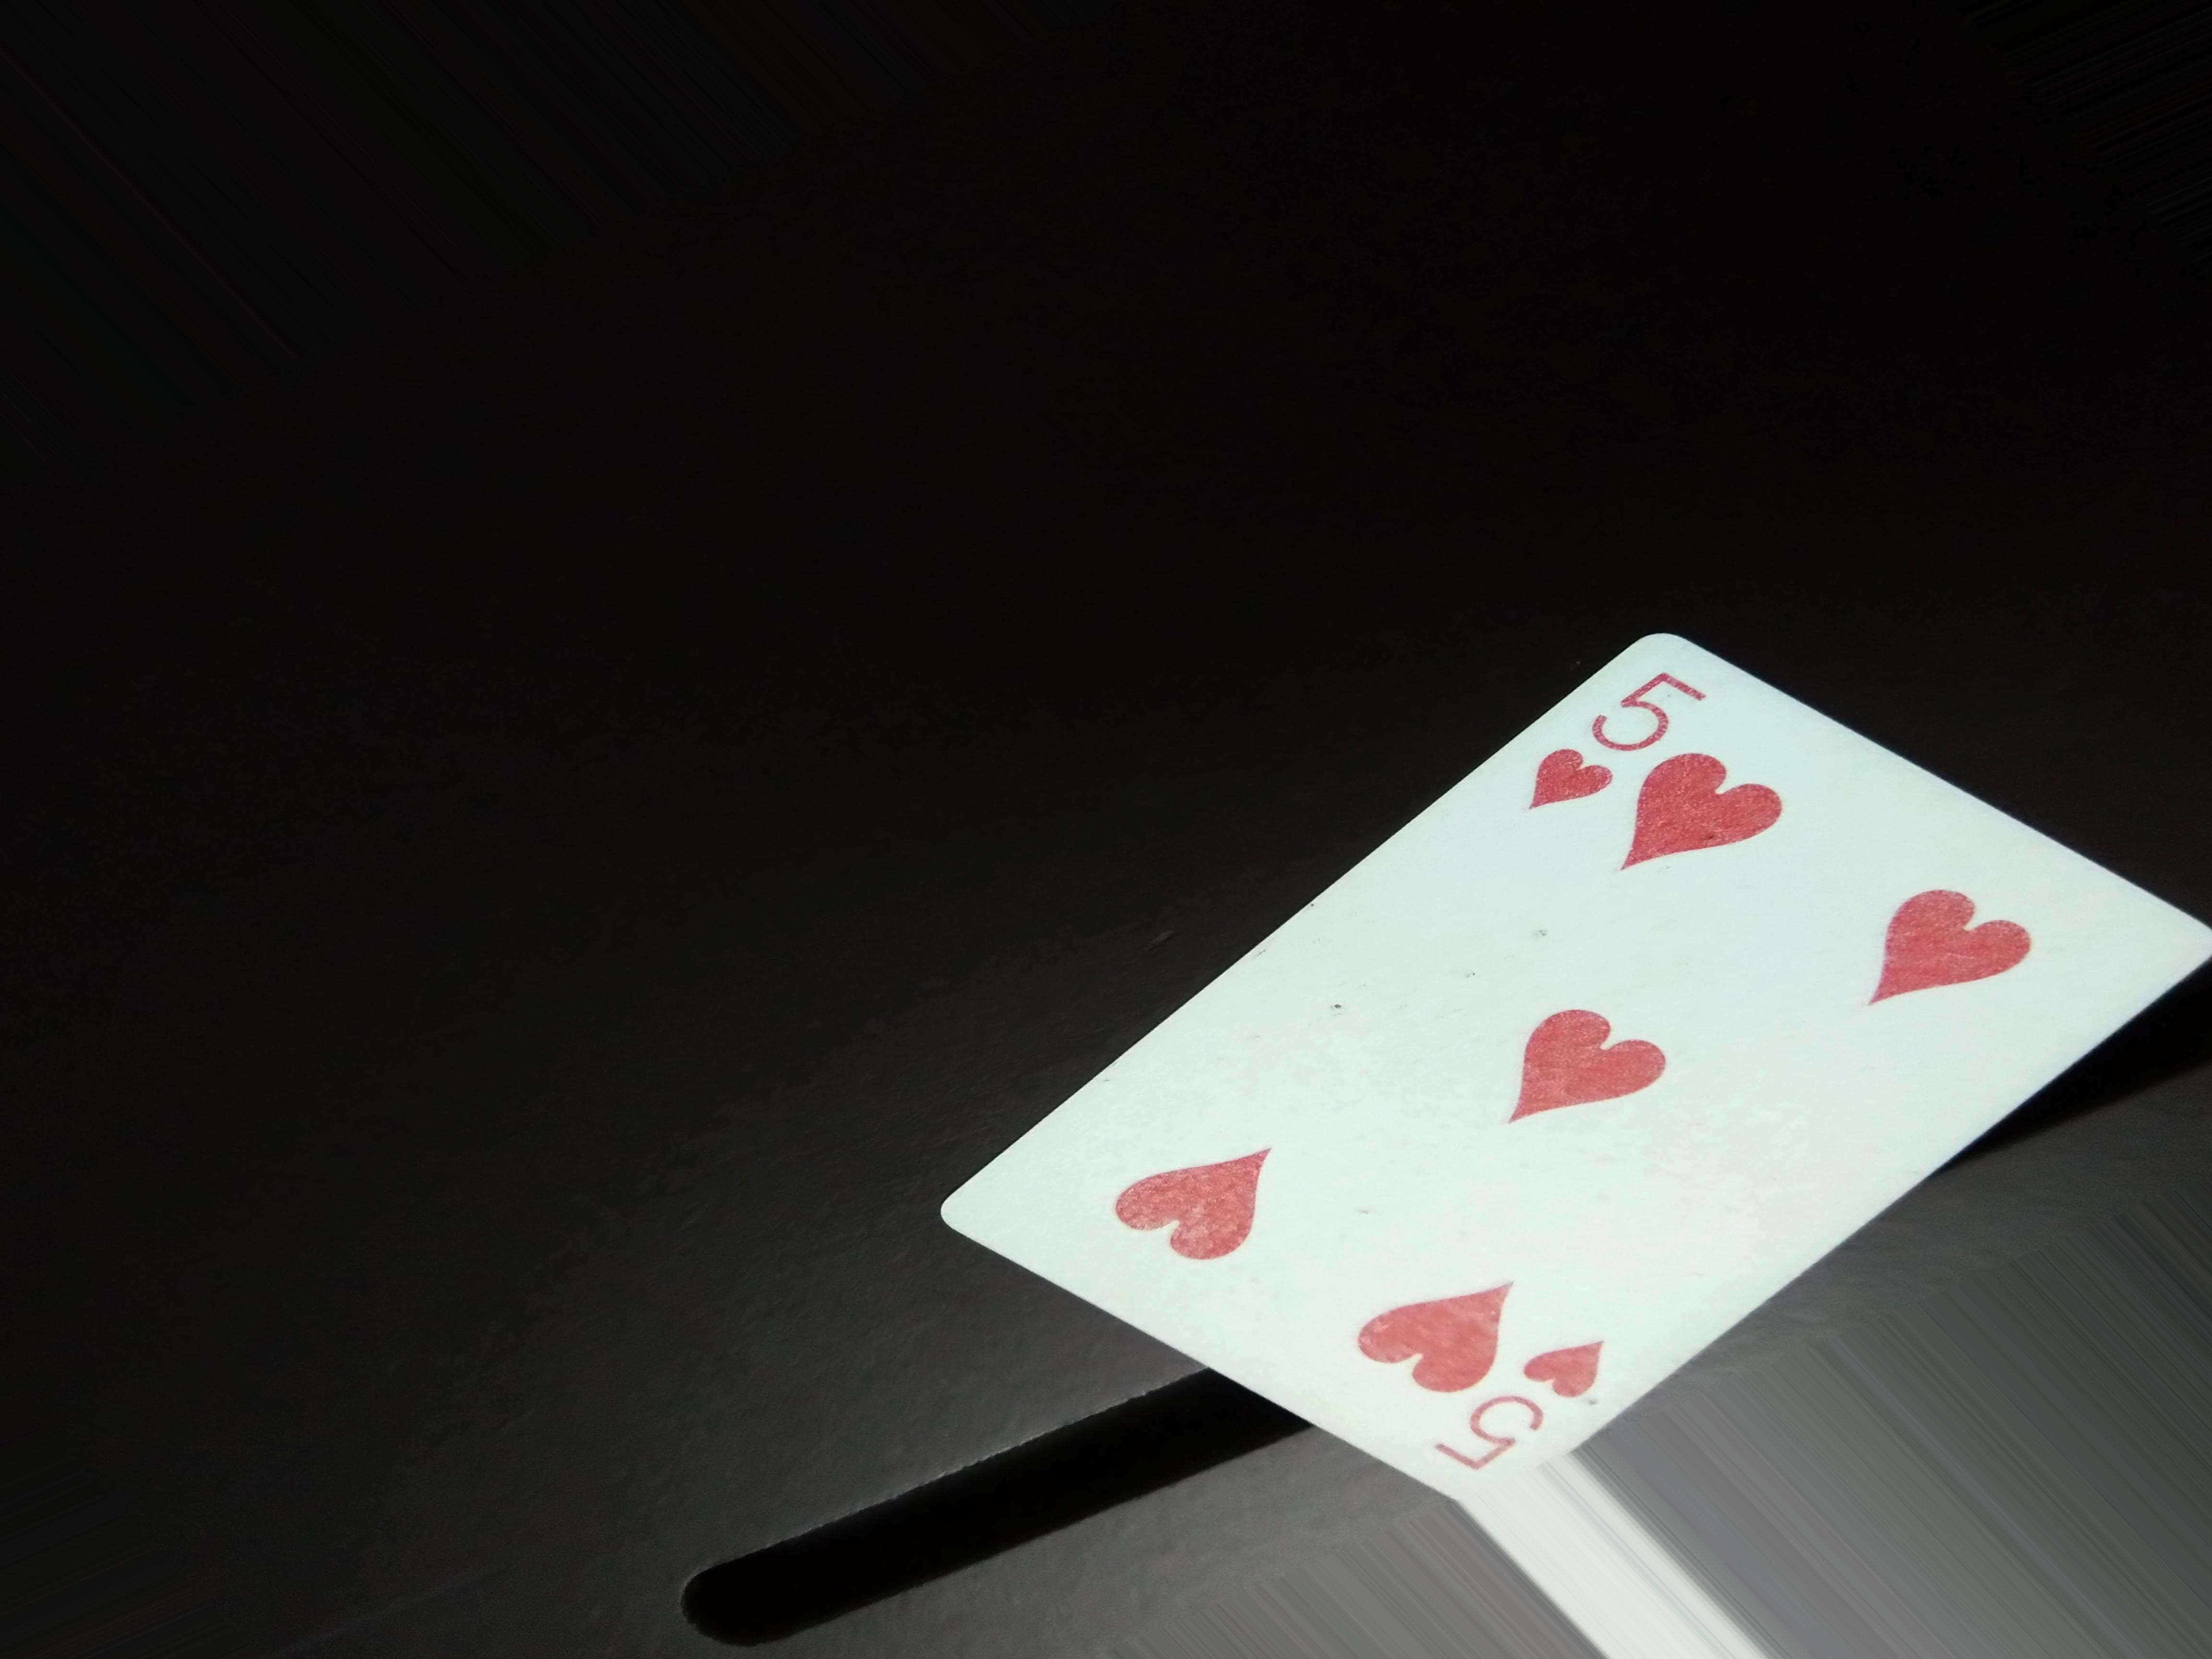5H: (1524, 657, 1696, 823)
